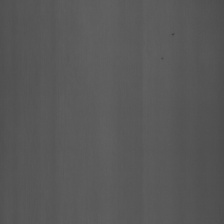oil_spot: (160, 54, 164, 64), (171, 29, 174, 38)
